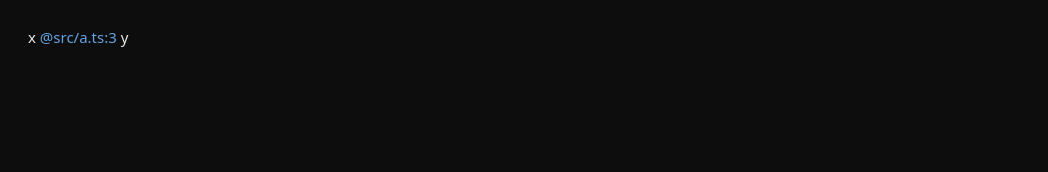
Test: ComposerInput whole-reference delete › a deletion inside a reference removes it with the caret at its start
Later steps or results of the test are not shown.
Click the text box named "Message" at (524, 45), box [12,12,1036,78]
Press Backspace
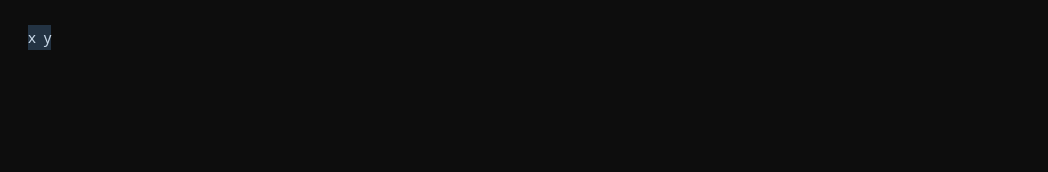
Result: the text box named "Message" holds "x  y" at [12,12,1036,78]
